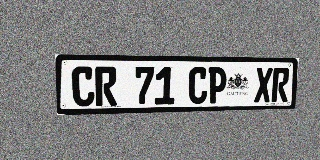1: (155, 67, 175, 105)
7: (134, 67, 154, 105)
C: (71, 66, 95, 107), (188, 67, 208, 104)
P: (207, 67, 227, 104)
R: (95, 66, 117, 106), (271, 68, 290, 102)
X: (254, 68, 273, 102)
